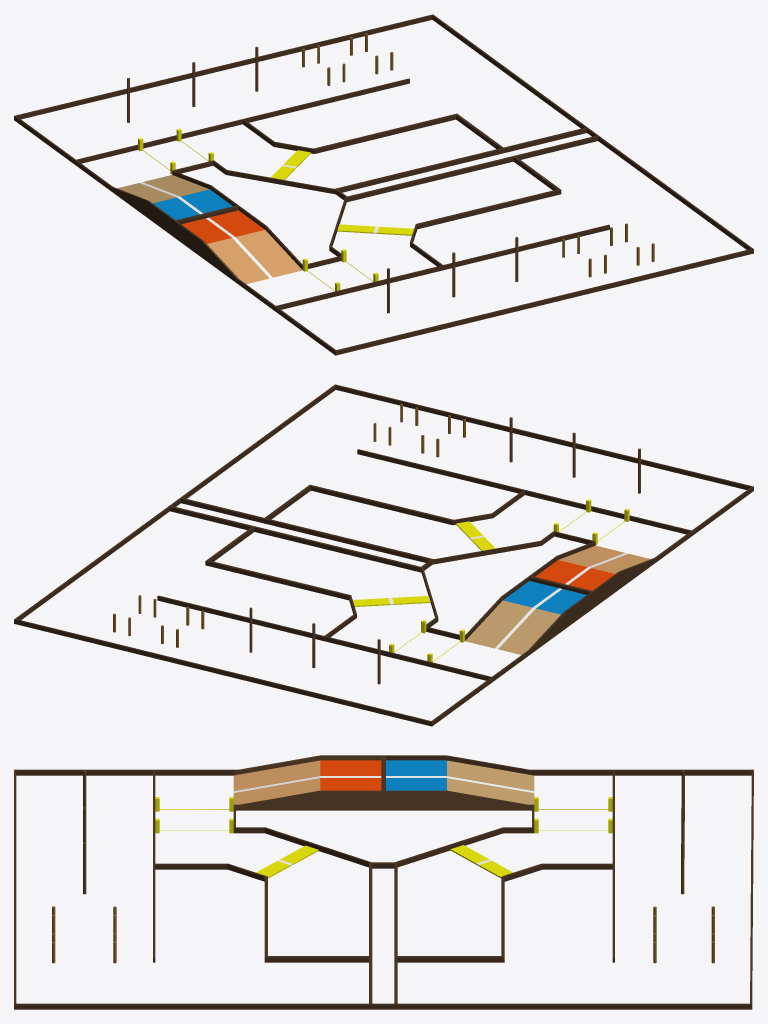
Rendered from fieldAge.dae.
3 views of the same model, one above another, from view 1: azimuth 30°, elevation 25°; view 2: azimuth 150°, elevation 25°; view 3: azimuth 270°, elevation 25° (orthographic). The views are drawn at different scales.
Parts seen in each view (by area): view 1: SketchUp (×12); view 2: SketchUp (×12); view 3: SketchUp (×12).
Part boxes in pixels (left/top/right/bottom): SketchUp (×12): left=14, top=14, right=753, bottom=355; SketchUp (×12): left=14, top=384, right=753, bottom=726; SketchUp (×12): left=14, top=755, right=753, bottom=1009.
Bounding box in the file's own units: 394 × 525 × 39.43.
